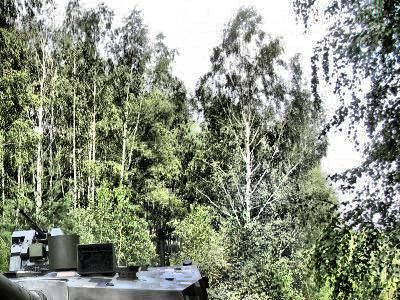tanks: (1, 229, 209, 300)
